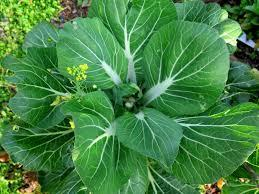Healthy-Pechay: (11, 12, 248, 176)
